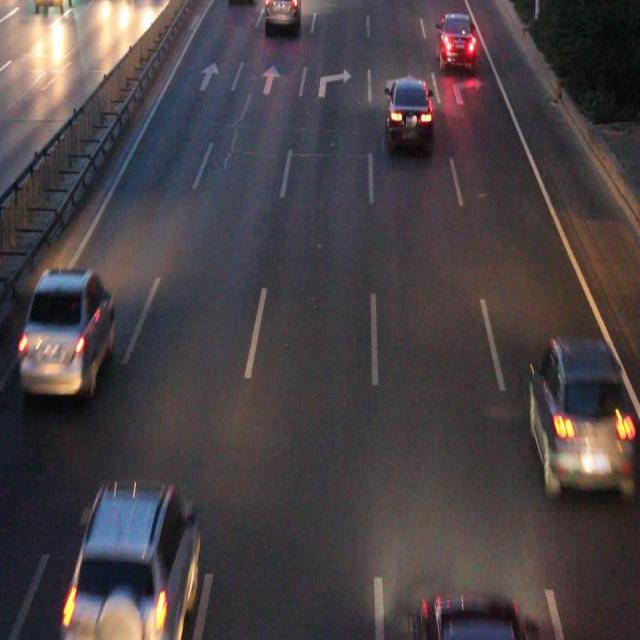car: (68, 483, 196, 628), (528, 342, 628, 489), (22, 267, 113, 394), (387, 77, 432, 145), (436, 15, 476, 70), (264, 1, 300, 31)
